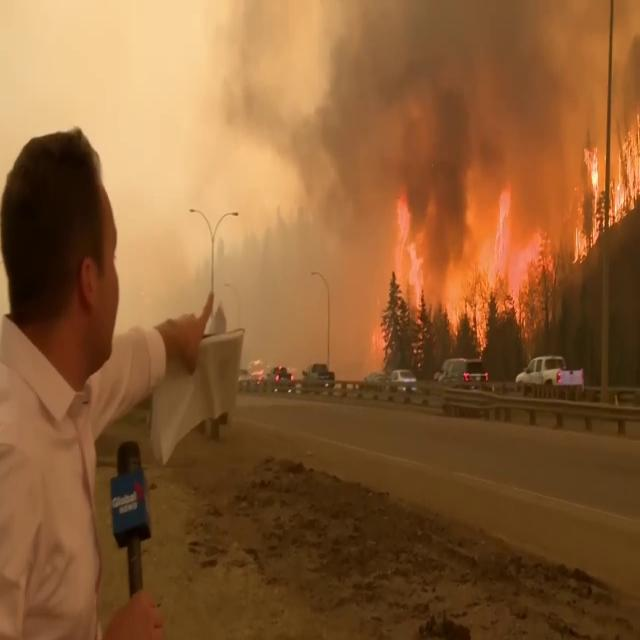Fire: (383, 163, 538, 350), (571, 104, 640, 268)
Smoke: (216, 4, 638, 286)
